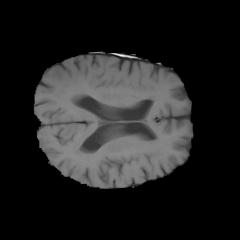glioma: (51, 67, 86, 105)
